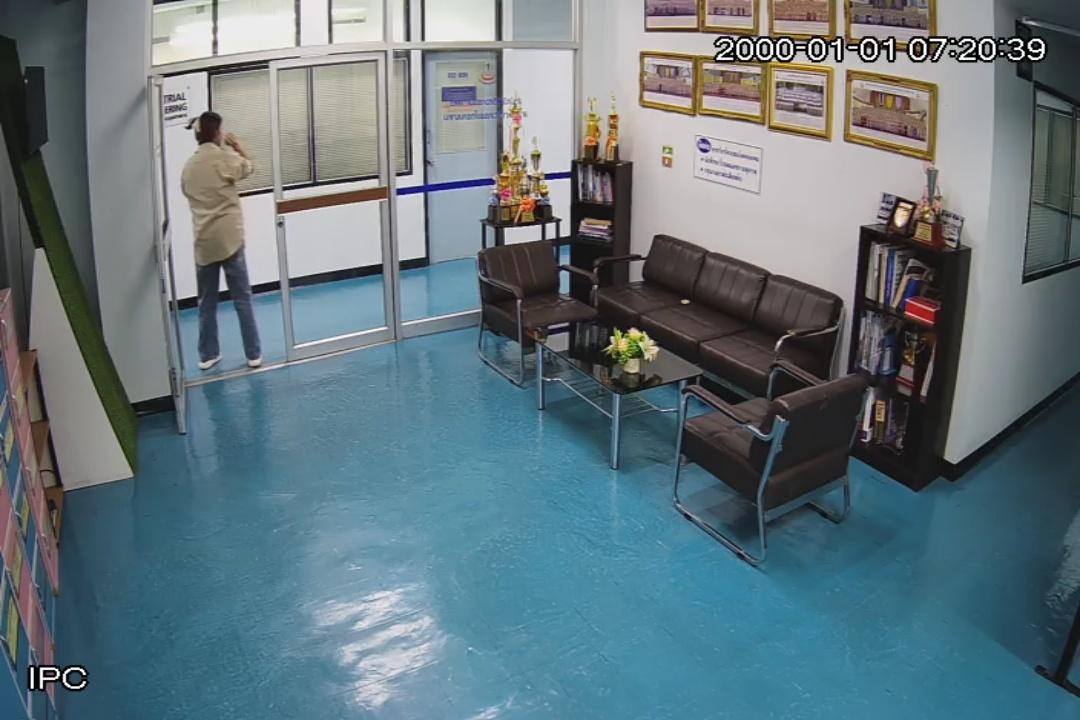normal: (182, 112, 270, 378)
